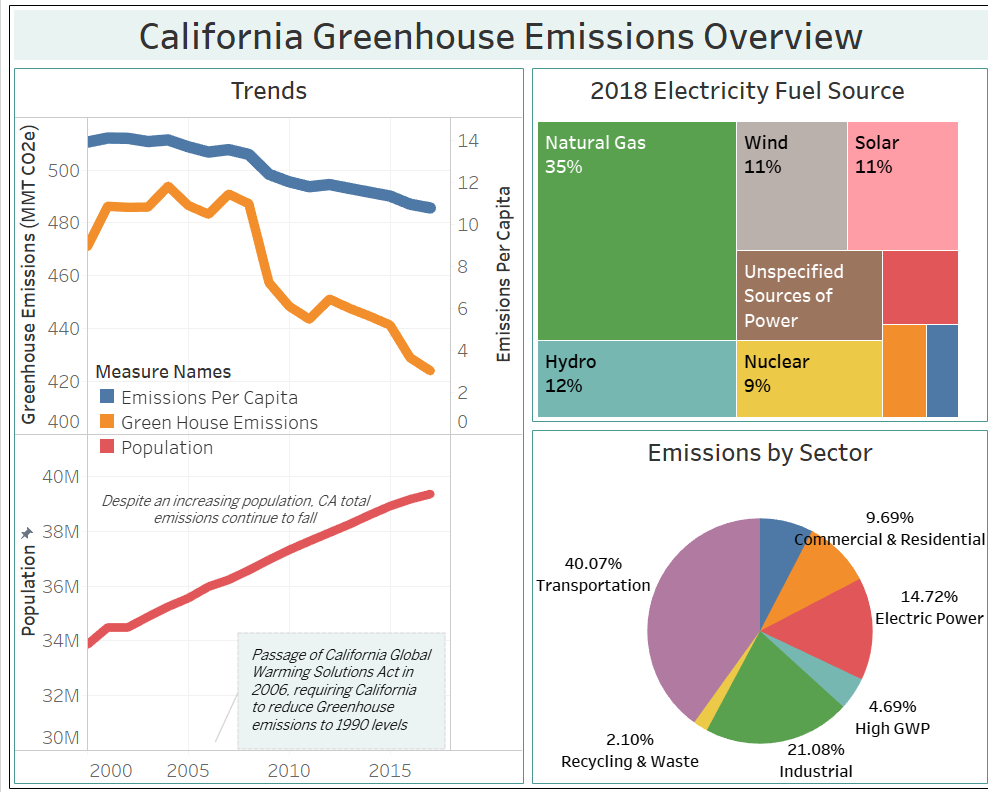

This screenshot's page, from the dashboard's own definition file:
{"tool":"tableau","page":{"name":"Dashboard 1","canvas":[1000,800],"ordinal":0},"visuals":[{"type":"title","box":[9,9,982,58]},{"type":"worksheet","title":"Sheet 1","mark":"Automatic","rows":["Green House Emissions","Calculation_888898015659741184","Population"],"cols":["Year"],"box":[9,67,517.9,724]},{"type":"worksheet","title":"2018 Electricity Fuel Source","mark":"Automatic","box":[526.9,67,464.1,362]},{"type":"legend","title":"Sheet 1","param":"[federated.1wcvpfw1t2ekrh1gcp2lj15jbbwt].[:Measure Names]","box":[94,361,229,101]},{"type":"worksheet","title":"Pie","mark":"Pie","box":[526.9,429,464.1,362]}]}

Visuals, with their boxes in screenshot pixels (x1, y1, x2, y2), scaled from the page's 1000x800 canvas onto the 988x792 screenshot:
title: [9, 9, 979, 66]
"Sheet 1" worksheet: [9, 66, 521, 783]
"2018 Electricity Fuel Source" worksheet: [521, 66, 979, 425]
"Sheet 1" legend: [93, 357, 319, 457]
"Pie" worksheet (Pie marks): [521, 425, 979, 783]
